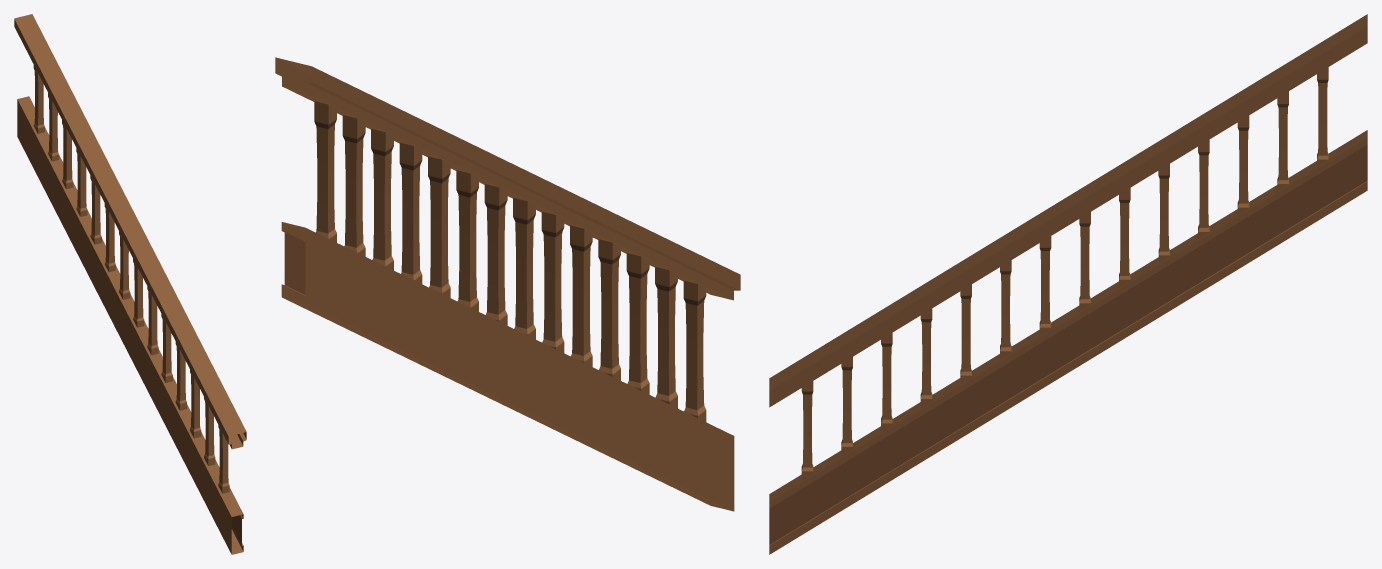
Rendered from stairs_railing.fbx.
The picture shows the model from 3 angles, left to right: view 1: azimuth 30°, elevation 25°; view 2: azimuth 150°, elevation 25°; view 3: azimuth 270°, elevation 25°; orthographic projection. The views are drawn at different scales.
Parts seen in each view (by area): view 1: stairs_deco1; view 2: stairs_deco1; view 3: stairs_deco1.
Boxes of the visible parts, box(x1,y1,x2,y2) form: stairs_deco1: box(14, 14, 246, 554); stairs_deco1: box(275, 57, 740, 511); stairs_deco1: box(769, 14, 1367, 554).
Bounding box in the file's own units: 27.79 × 554 × 566.
Materials: 1 (1 with a texture image).
